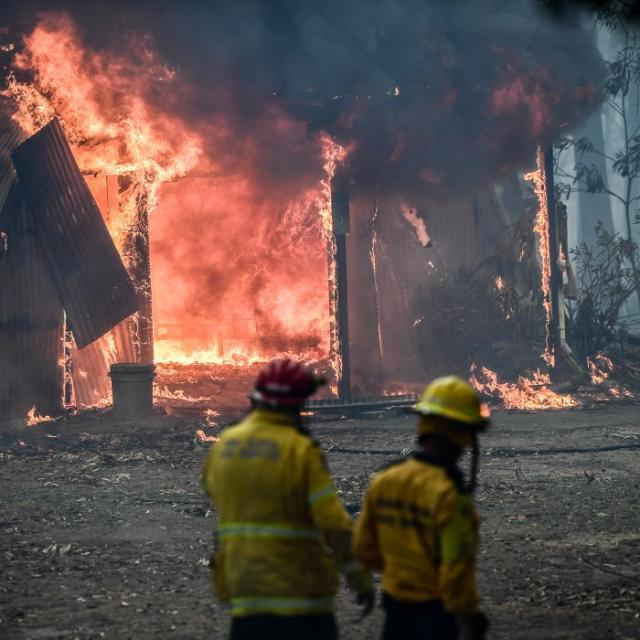Fire: (142, 162, 344, 374), (2, 13, 164, 220), (54, 222, 148, 430)
Smoke: (360, 0, 612, 163), (344, 169, 544, 371), (168, 1, 362, 154)
